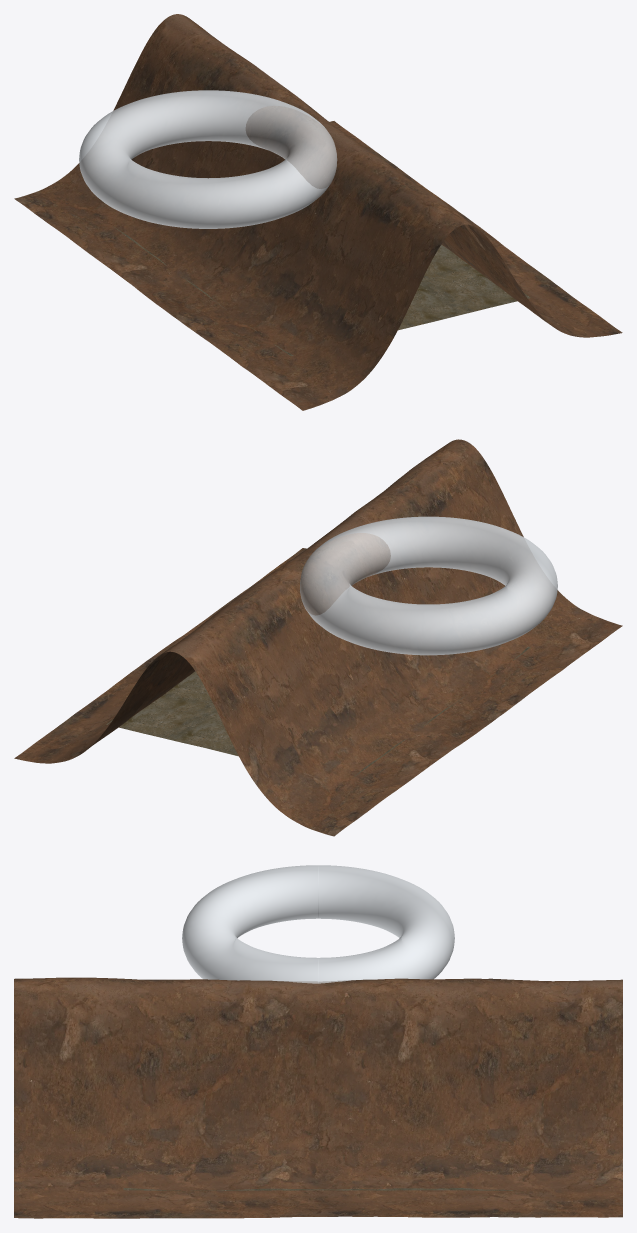
File: rain-shadow.glb
The picture shows the model from 3 angles, top to bottom: view 1: azimuth 30°, elevation 25°; view 2: azimuth 150°, elevation 25°; view 3: azimuth 270°, elevation 25°; orthographic projection. The views are drawn at different scales.
Visible parts, largest first — view 1: Shadow_Ridge, Shadow_WindwardCloud, Shadow_Lee; view 2: Shadow_Ridge, Shadow_WindwardCloud, Shadow_Lee; view 3: Shadow_Ridge, Shadow_WindwardCloud, Shadow_Lee.
Boxes of the visible parts, left/top/right/bottom form: Shadow_Ridge: left=14, top=14, right=622, bottom=410; Shadow_WindwardCloud: left=79, top=90, right=337, bottom=228; Shadow_Lee: left=112, top=226, right=530, bottom=355; Shadow_Ridge: left=14, top=439, right=622, bottom=836; Shadow_WindwardCloud: left=300, top=516, right=557, bottom=655; Shadow_Lee: left=106, top=646, right=530, bottom=778; Shadow_Ridge: left=14, top=977, right=622, bottom=1218; Shadow_WindwardCloud: left=182, top=865, right=454, bottom=983; Shadow_Lee: left=123, top=1188, right=513, bottom=1190.
Size of the model in its own units: 3.82 by 1.5 by 5.
3 materials, 2 textured.
